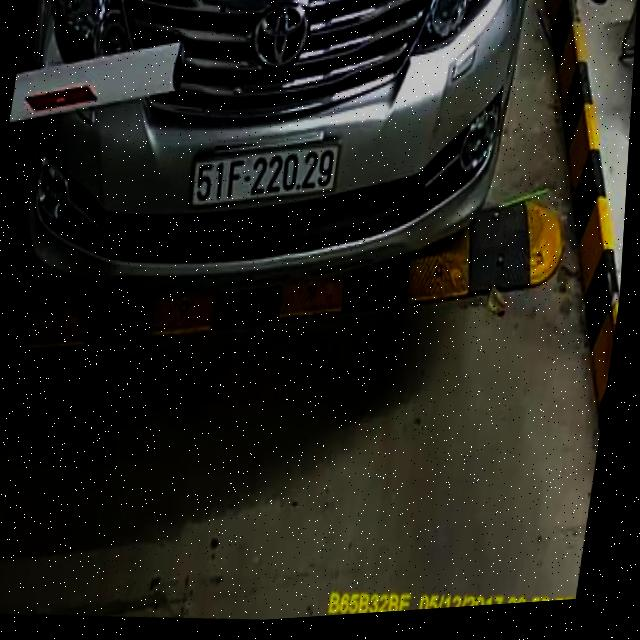car: (0, 0, 539, 332)
plate: (186, 133, 342, 219)
